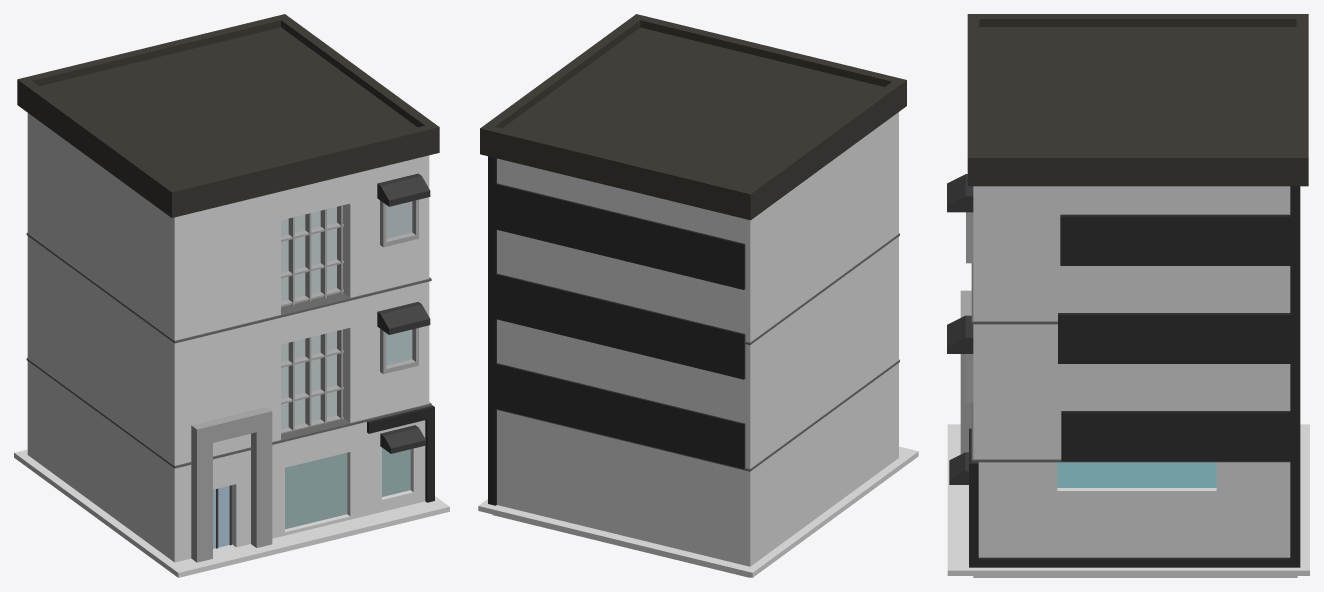
File: House2.fbx
3 renders of one model, left to right at view 1: azimuth 30°, elevation 25°; view 2: azimuth 150°, elevation 25°; view 3: azimuth 270°, elevation 25°, orthographic. The views are drawn at different scales.
Parts seen in each view (by area): view 1: Cube.002, Cube.007, Cube.024, Cube.001, Cube.004, Cube.012, Cube.013, Cube.006, Cube.031, Cube.003, Cube.008, Cube.035 (+2 smaller); view 2: Cube.002, Cube.007, Cube.003, Cube.004, Cube.006; view 3: Cube.002, Cube.007, Cube.003, Cube.004, Cube.011, Cube.031, Cube.006, Cube.001, Cube.024.
Boxes of the visible parts, x1,y1,x2,y2 form: Cube.002: [27, 113, 429, 562]; Cube.007: [17, 14, 439, 217]; Cube.024: [281, 199, 418, 433]; Cube.001: [191, 407, 272, 562]; Cube.004: [14, 449, 449, 577]; Cube.012: [281, 207, 336, 428]; Cube.013: [285, 453, 347, 529]; Cube.006: [26, 232, 431, 468]; Cube.031: [377, 173, 430, 453]; Cube.003: [367, 405, 434, 502]; Cube.008: [382, 447, 410, 496]; Cube.035: [213, 486, 229, 548]; Cube.002: [493, 112, 898, 577]; Cube.007: [480, 14, 906, 220]; Cube.003: [488, 156, 745, 505]; Cube.004: [478, 446, 918, 577]; Cube.006: [496, 233, 899, 471]; Cube.002: [973, 186, 1297, 577]; Cube.007: [967, 14, 1308, 186]; Cube.003: [969, 186, 1300, 567]; Cube.004: [947, 424, 1309, 575]; Cube.011: [1057, 462, 1216, 487]; Cube.031: [947, 174, 973, 484]; Cube.006: [971, 263, 1289, 462]; Cube.001: [960, 290, 971, 454]; Cube.024: [966, 212, 973, 403].
Size of the model in its own units: 2048 by 2772 by 2150.
